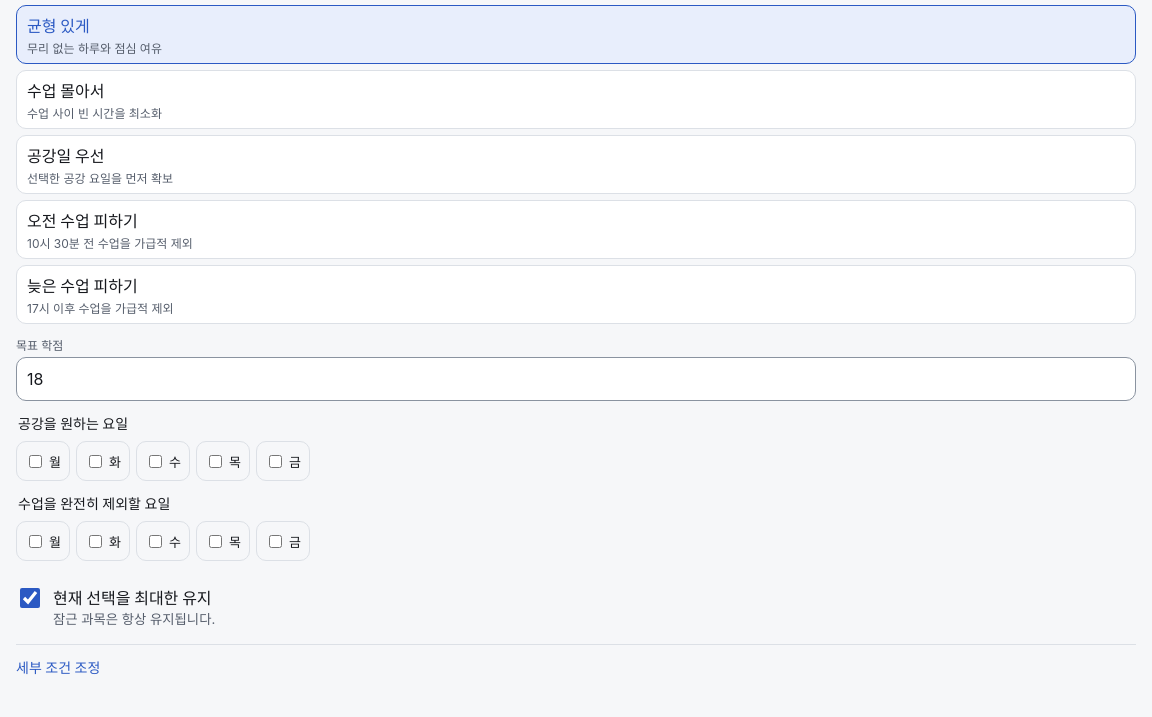
Test: student-language preference presets › keeps target credits and free days visible while low-level controls stay in advanced settings
The image size is (1152, 717).
(page scrolled)
Expected: the number field labelled "목표 학점" is shown, [16,357,1136,401]
Expected: the element "공강을 원하는 요일" is shown, [16,415,310,481]
Click the heading "세부 조건 조정". click: (58,668)
box: [16,659,100,676]
(page scrolled)
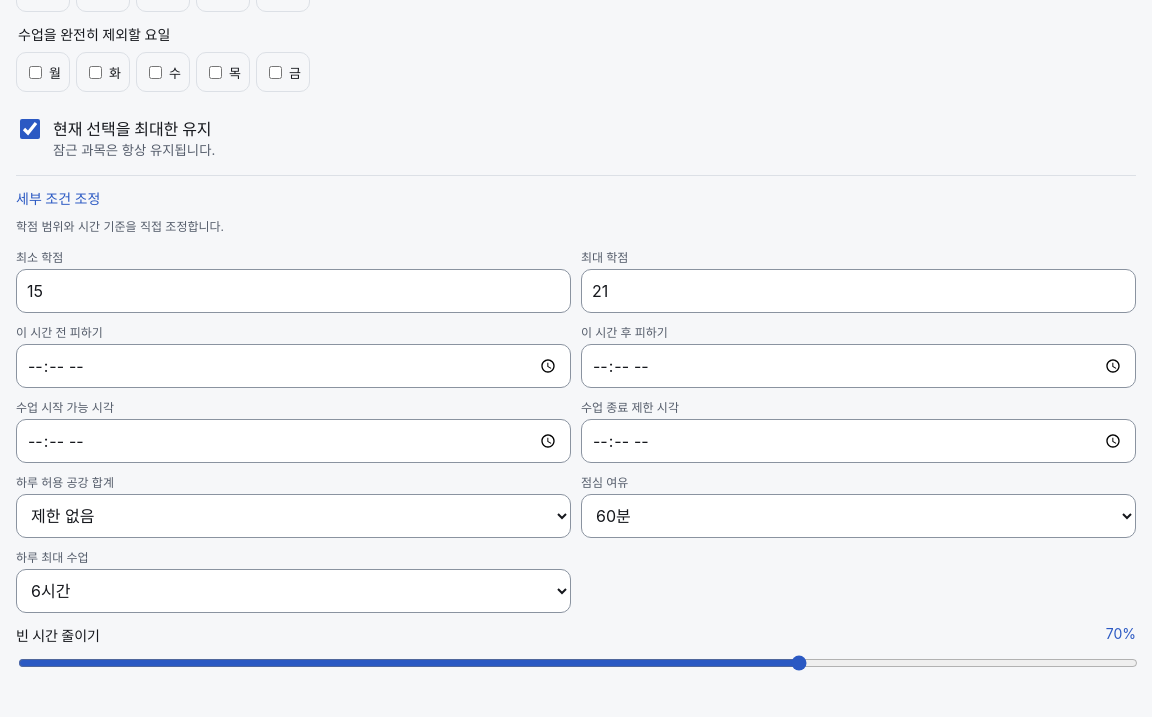
Result: the number field labelled "최소 학점" is shown at [16,269,571,313]
Result: the slider named "빈 시간 줄이기" is shown at [18,655,1138,671]
